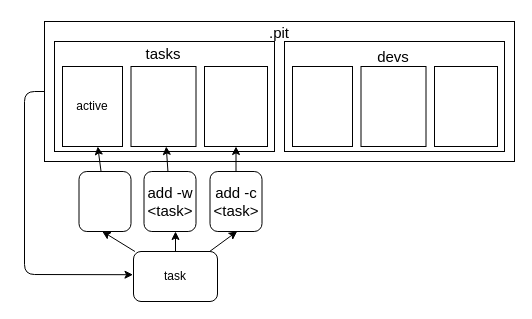
This 532x319 diagram has some shape labels left out. The shapes that lost their labels are listed below. From the top down, each one's centre as x and y in pixels, then its label:
(163,106): working
(236,106): closed
(104,201): add <task>
